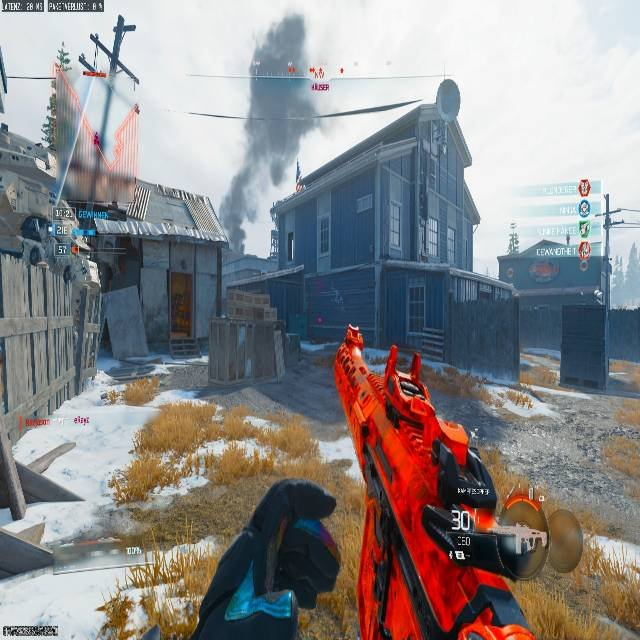head: (71, 227, 80, 239)
player: (64, 228, 94, 286)
